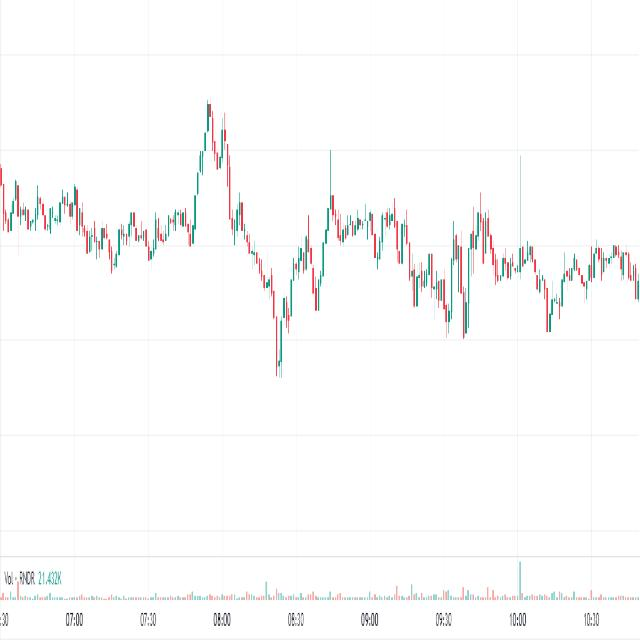Double-Top: (196, 78, 238, 200)
